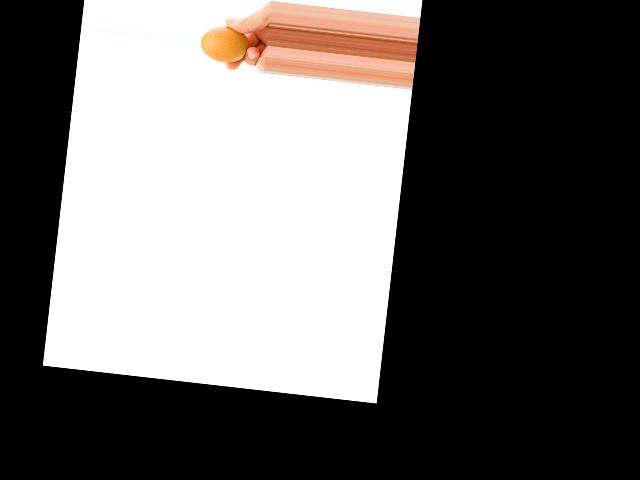egg: (198, 24, 249, 65)
